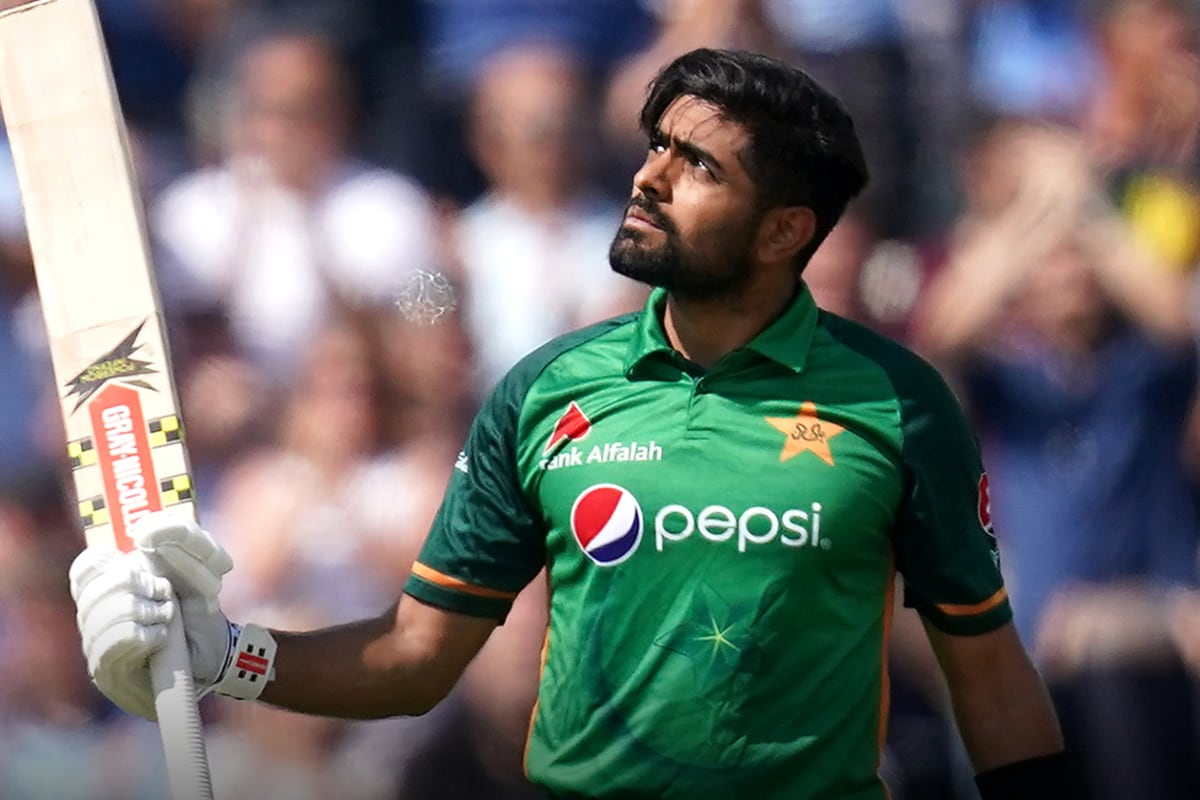NoMask: (608, 123, 745, 296)
